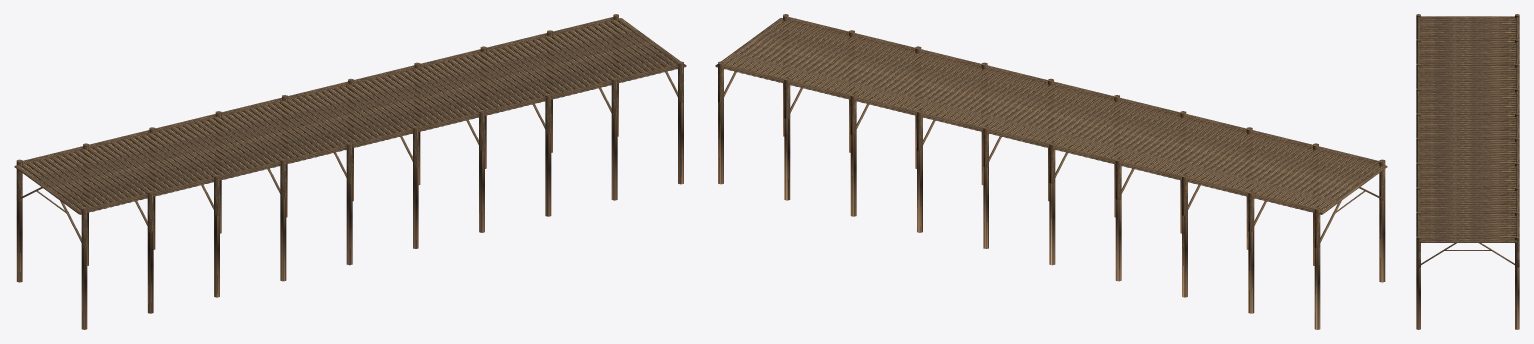
The model's file is bridge.fbx.
3 views of the same model, side by side, from view 1: azimuth 30°, elevation 25°; view 2: azimuth 150°, elevation 25°; view 3: azimuth 270°, elevation 25° (orthographic). The views are drawn at different scales.
Visible parts, largest first — view 1: Cylinder003; view 2: Cylinder003; view 3: Cylinder003.
Part boxes in pixels (x1,y1,x2,y2): Cylinder003: (14, 14, 686, 329); Cylinder003: (715, 14, 1387, 329); Cylinder003: (1416, 14, 1519, 329).
Size of the model in its own units: 47.83 by 9.04 by 9.22.
